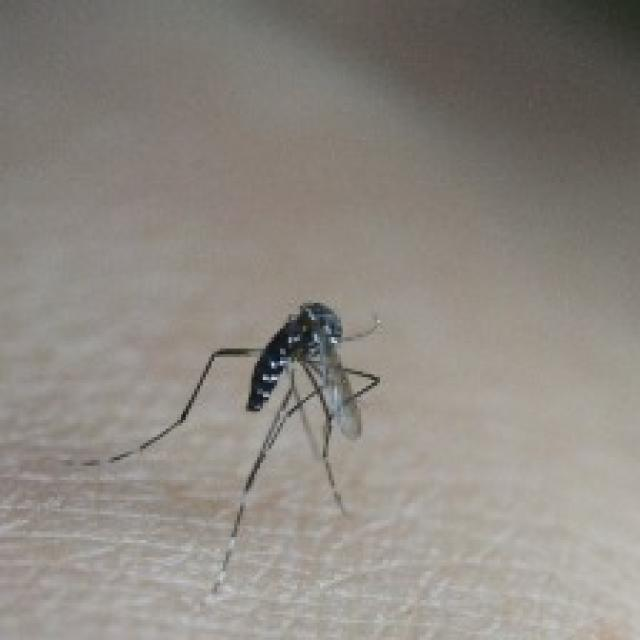aedes: (80, 297, 383, 597)
